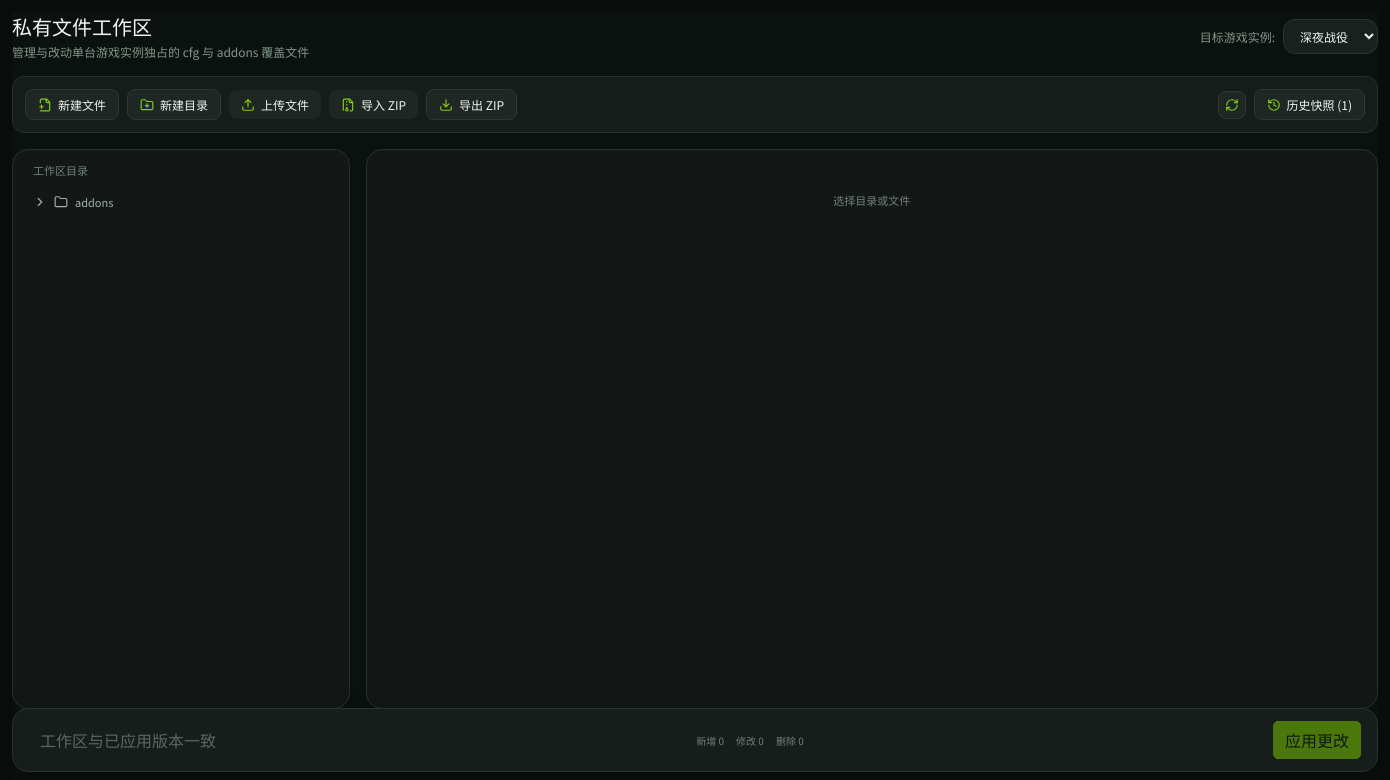
Test: PrivateFilesPage › does not offer text editing for binary files
The width and height of the screenshot is (1390, 780).
Click the list item "addons": (94, 202) 25,186 -> 336,218
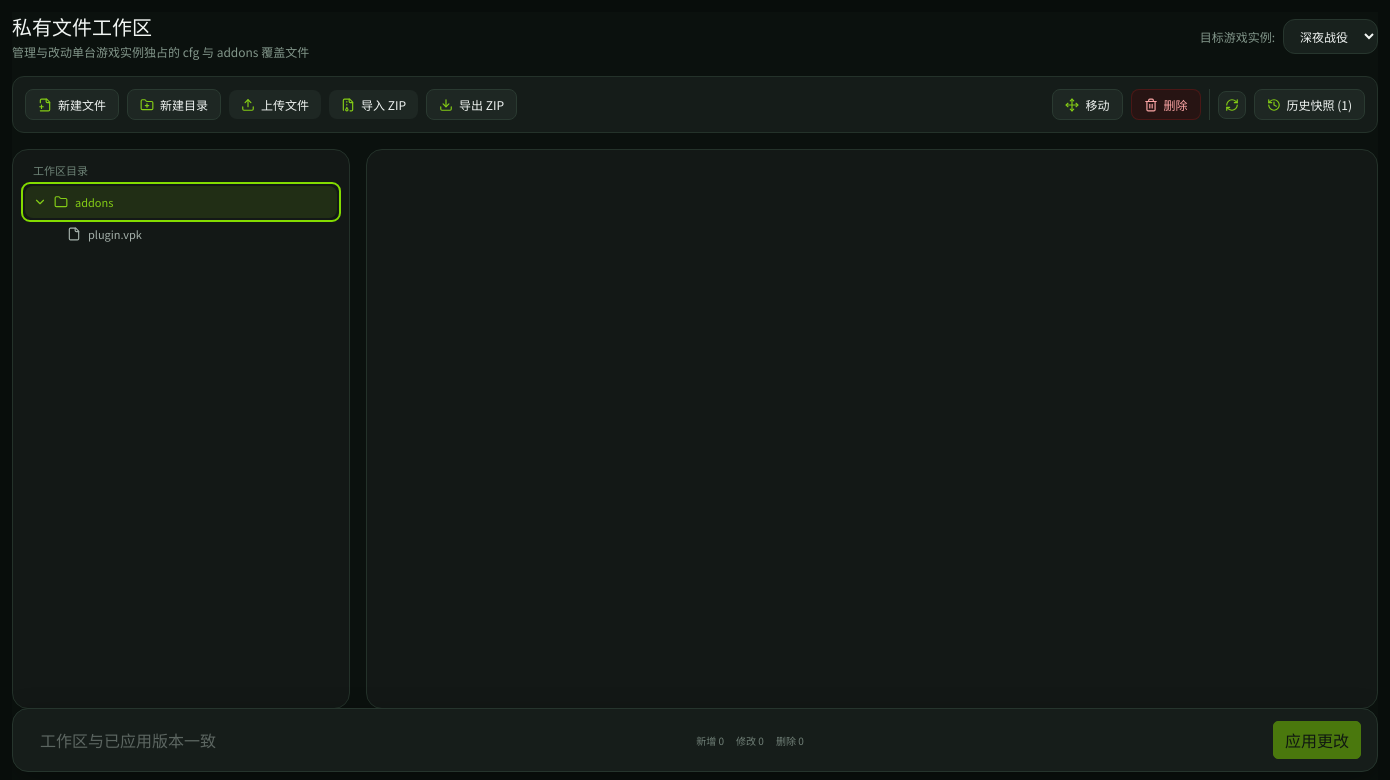
Expected: the text "plugin.vpk" is shown, 88,226 -> 142,242
